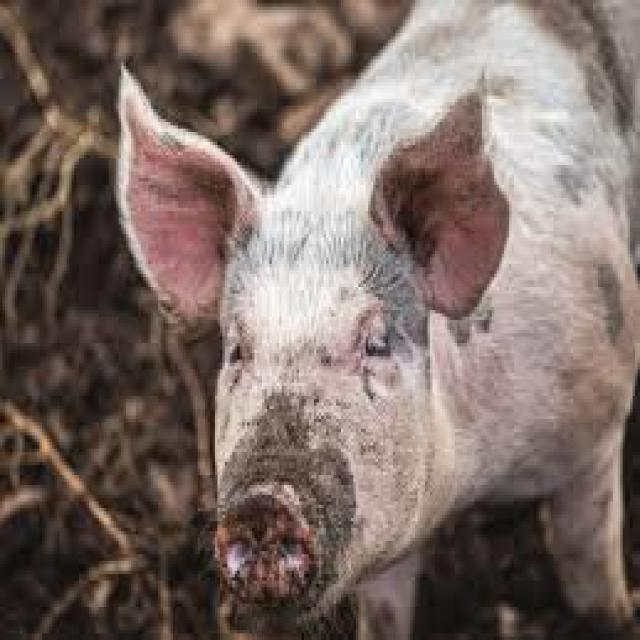Pig: (94, 0, 640, 617)
